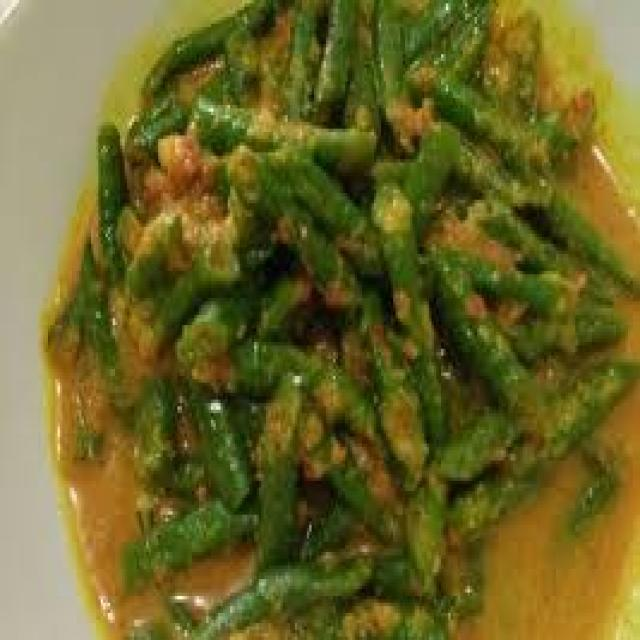kacang_panjang: (73, 0, 593, 636)
